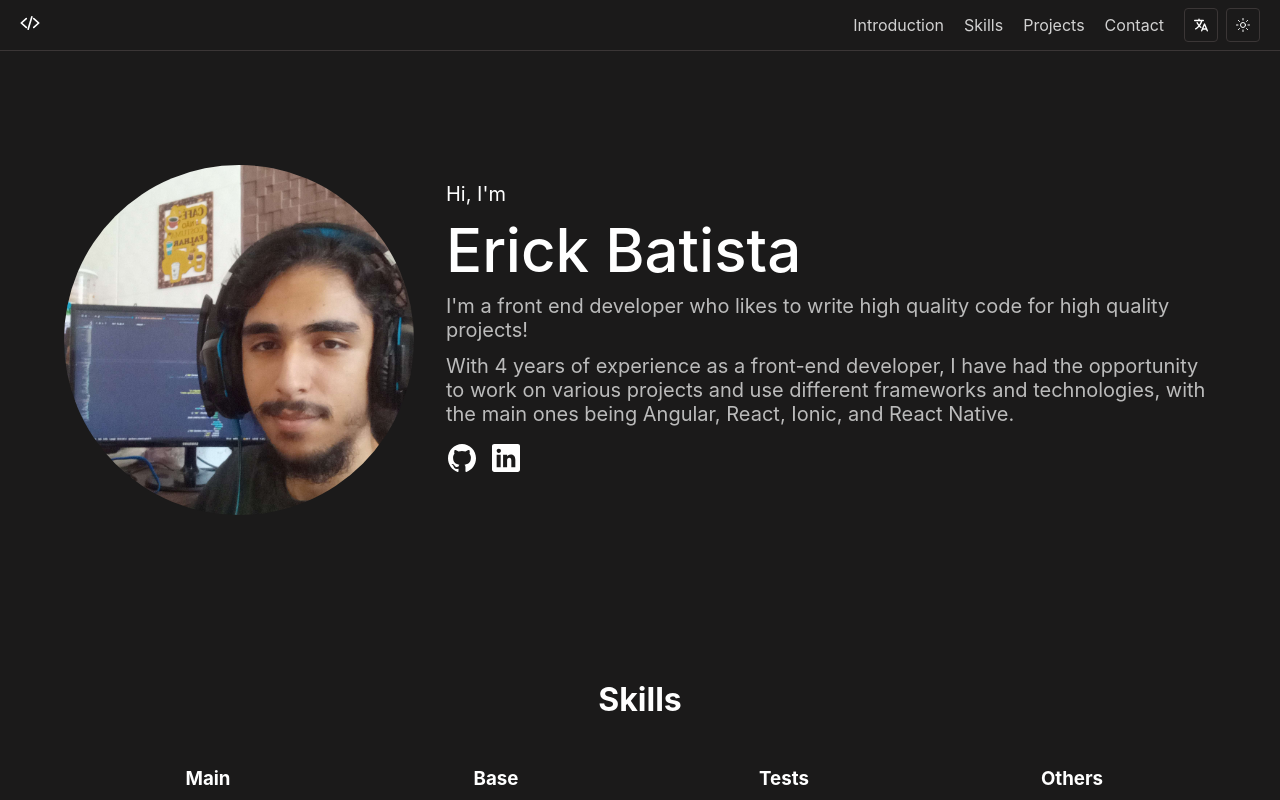
Test: header › translate button should translate to specific language
Expected: the text "Hi, I'm" is shown, [446, 182, 506, 206]
Click the element with class "language-dropdown" at (1201, 25), box [1184, 8, 1218, 42]
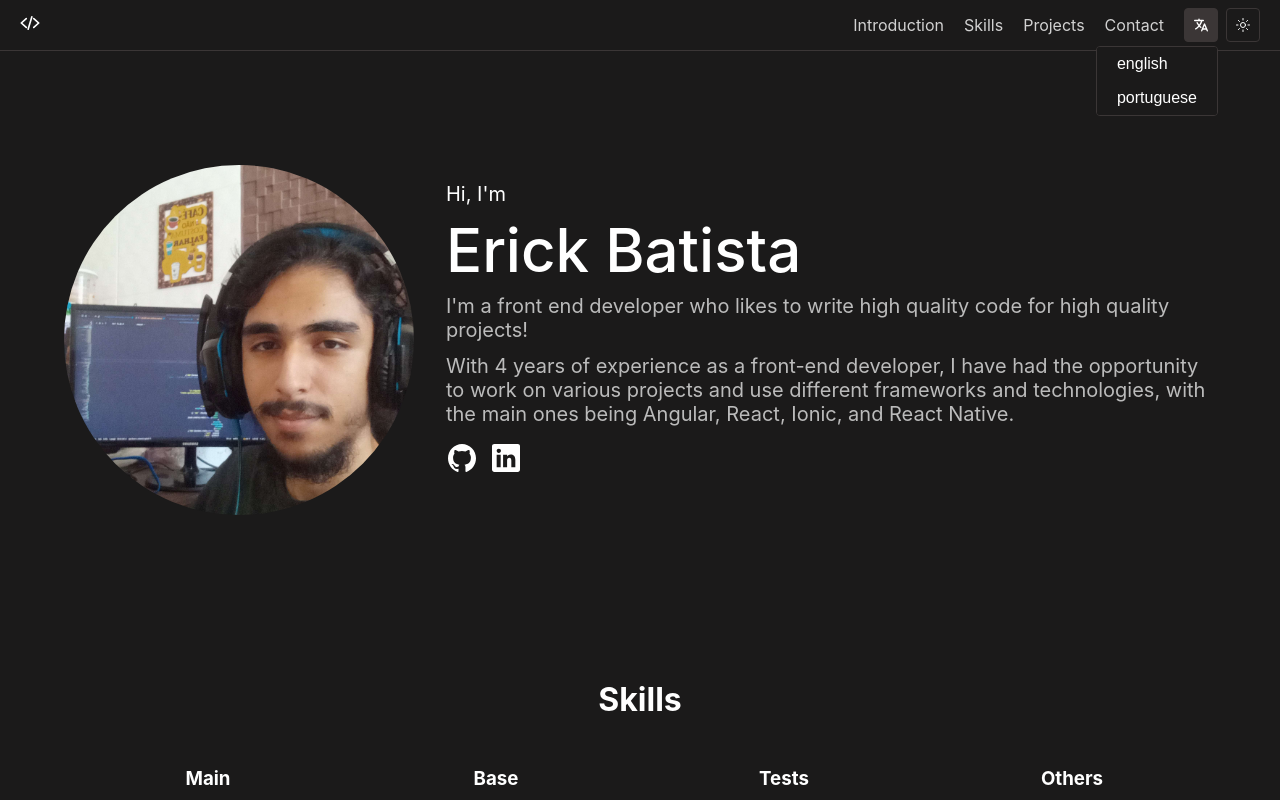
Click the button "portuguese" at (1157, 98), box [1097, 81, 1217, 115]
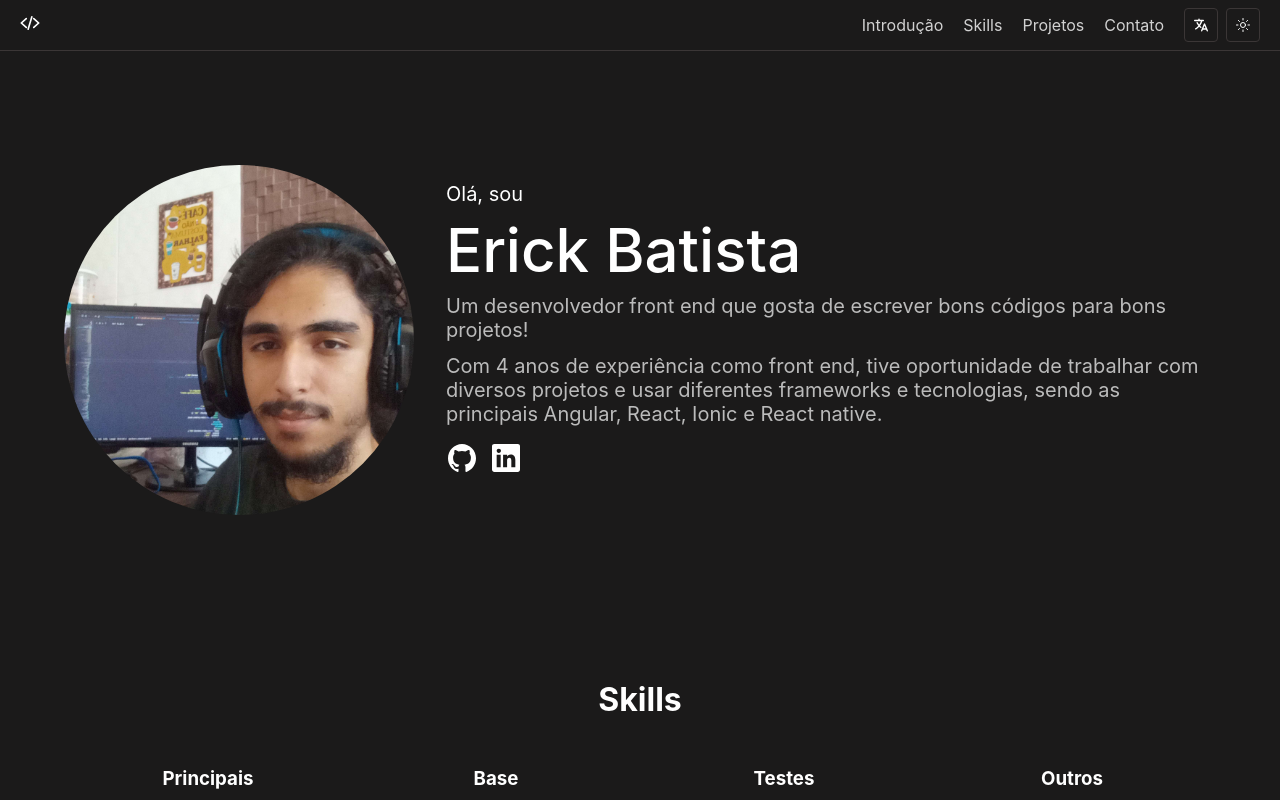
Expected: the text "Olá, sou" is shown, [446, 182, 523, 206]
Click the element with class "language-dropdown" at (1201, 25), box [1184, 8, 1218, 42]
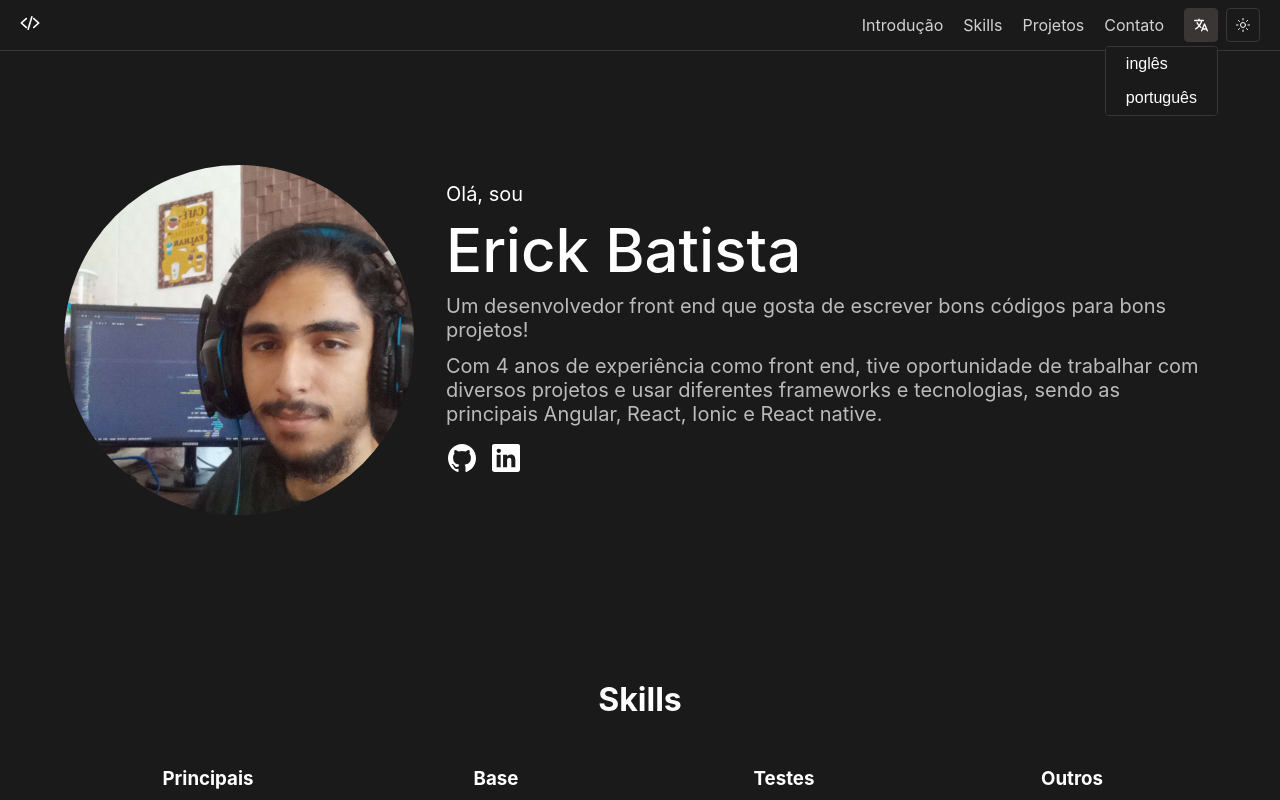
Click the button "inglês" at (1162, 64), box [1106, 47, 1217, 81]
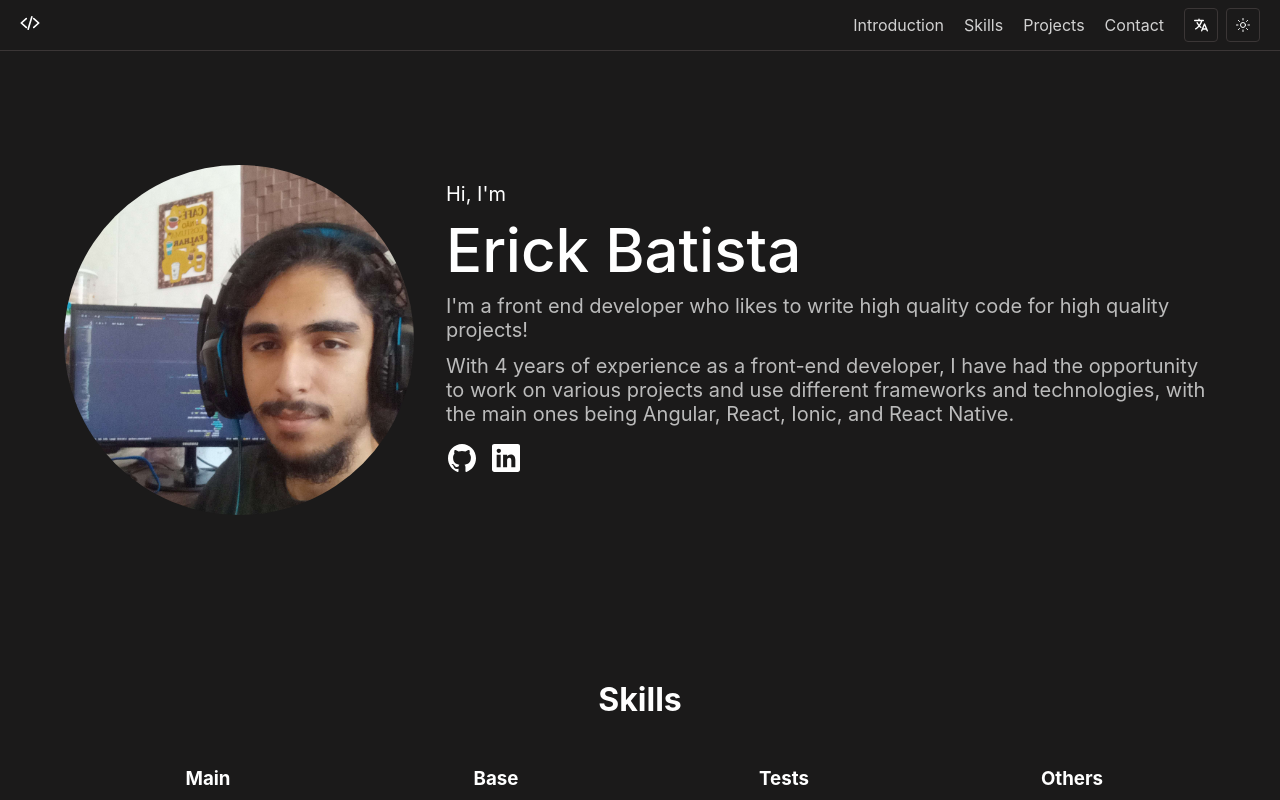
Expected: the text "Hi, I'm" is shown, [446, 182, 506, 206]
